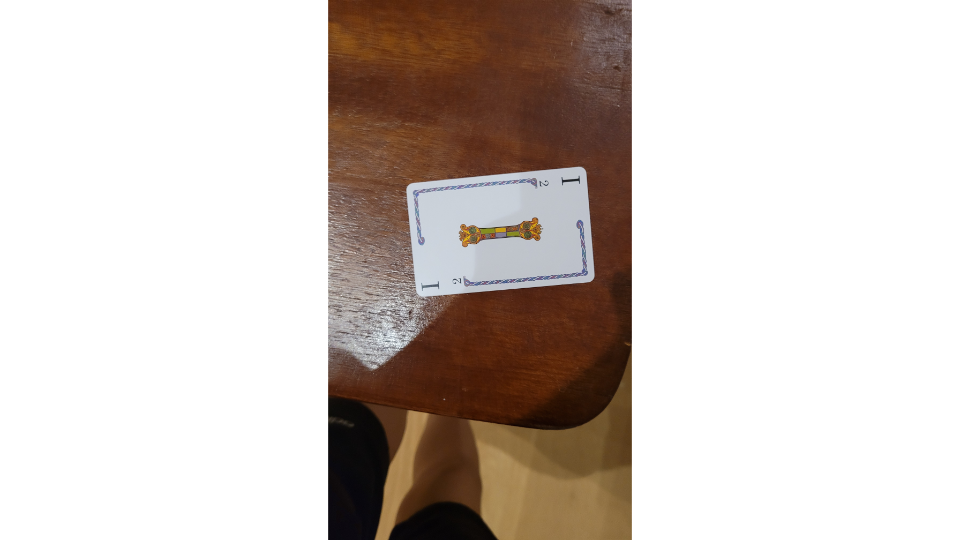I: (398, 163, 601, 299)
